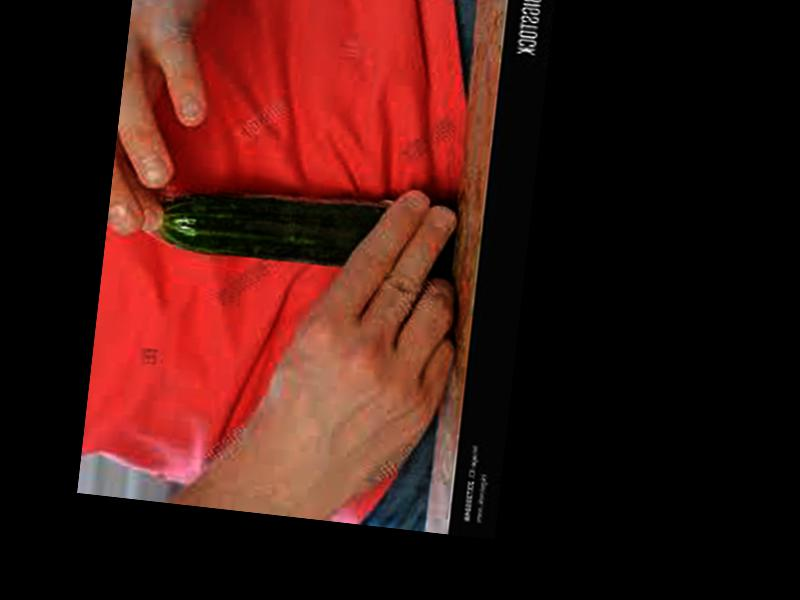Cucumber: (157, 179, 388, 274)
